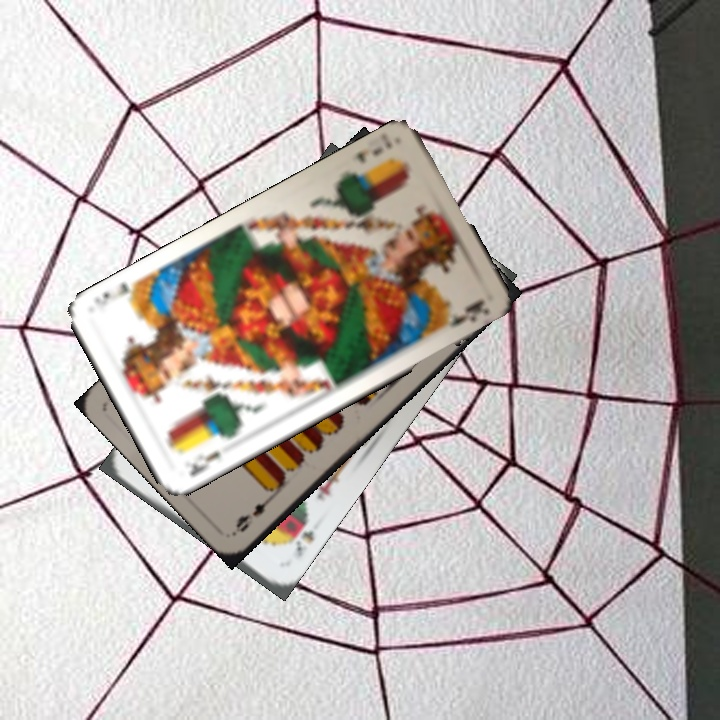E9: (231, 486, 278, 535)
EK: (351, 132, 395, 166), (181, 446, 223, 480)
SK: (280, 512, 317, 560)
